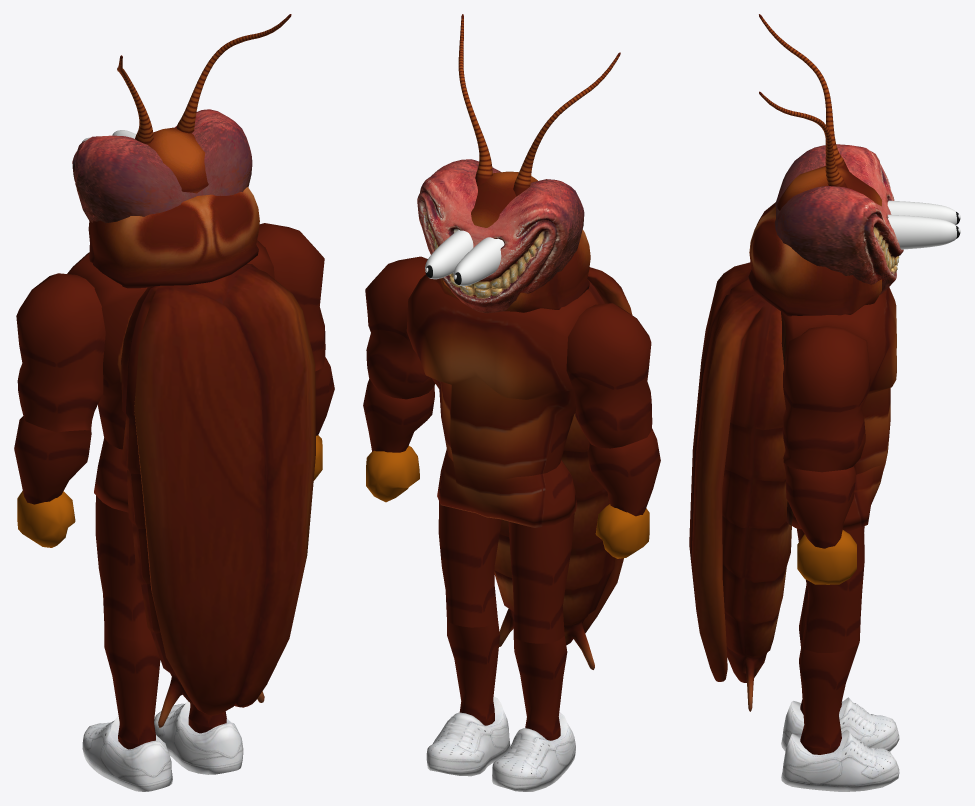
Rendered from MrJeronimo.obj.
3 renders of one model, left to right at view 1: azimuth 30°, elevation 25°; view 2: azimuth 150°, elevation 25°; view 3: azimuth 270°, elevation 25°, orthographic. The views are drawn at different scales.
Visible parts, largest first — view 1: Handle5, Handle6, Player9, Handle3, Player6, Player14, Player5, Player8, Player12, Handle2, Handle1, Player7 (+4 smaller); view 2: Player14, Handle3, Player9, Handle5, Player6, Player12, Player13, Player3, Handle6, Handle1, Handle2, Player8 (+7 smaller); view 3: Handle5, Handle3, Player12, Handle6, Player14, Handle1, Player2, Player3, Player11, Handle4, Handle2, Player10 (+2 smaller).
Part boxes in pixels (x1,y1,x2,y2): Handle5: [121, 264, 315, 727]; Handle6: [88, 127, 259, 288]; Player9: [16, 273, 105, 432]; Handle3: [72, 109, 252, 223]; Player6: [95, 495, 152, 640]; Player14: [67, 240, 274, 449]; Player5: [104, 625, 160, 749]; Player8: [14, 416, 91, 504]; Player12: [257, 223, 325, 371]; Handle2: [82, 716, 172, 791]; Handle1: [154, 701, 243, 774]; Player7: [17, 491, 75, 547]; Player14: [406, 274, 598, 479]; Handle3: [417, 159, 584, 313]; Player9: [566, 303, 652, 448]; Handle5: [494, 267, 632, 669]; Player6: [508, 513, 574, 643]; Player12: [365, 256, 435, 399]; Player13: [437, 449, 576, 527]; Player3: [438, 501, 501, 627]; Handle6: [433, 171, 590, 312]; Handle1: [426, 696, 510, 776]; Handle2: [492, 712, 575, 791]; Player8: [587, 428, 660, 516]; Handle5: [689, 262, 791, 711]; Handle3: [774, 144, 903, 294]; Player12: [783, 326, 870, 472]; Handle6: [748, 166, 881, 316]; Player14: [781, 287, 896, 474]; Handle1: [781, 729, 899, 791]; Player2: [799, 642, 859, 754]; Player3: [796, 526, 864, 652]; Player11: [784, 463, 856, 548]; Handle4: [887, 200, 960, 249]; Handle2: [781, 697, 899, 751]; Player10: [797, 530, 856, 584].
Bounding box in the file's own units: 3.73 × 8.7 × 3.01.
